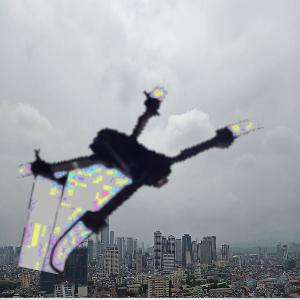drone: (21, 48, 263, 290)
